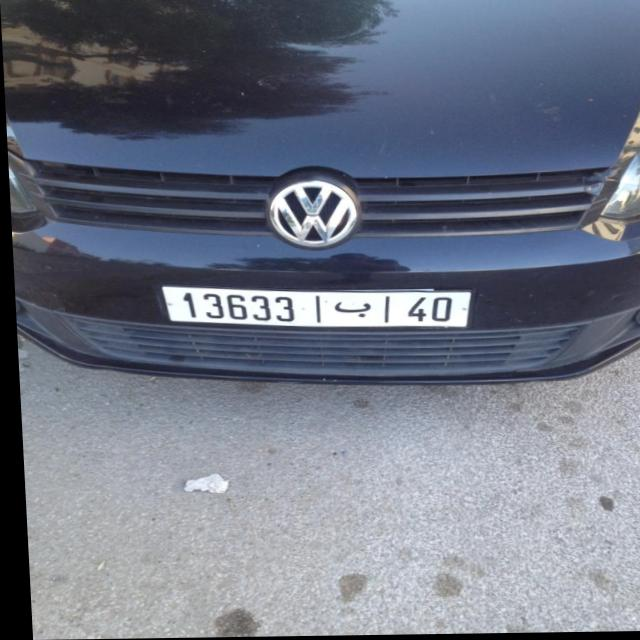License-Plate: (158, 286, 469, 329)
